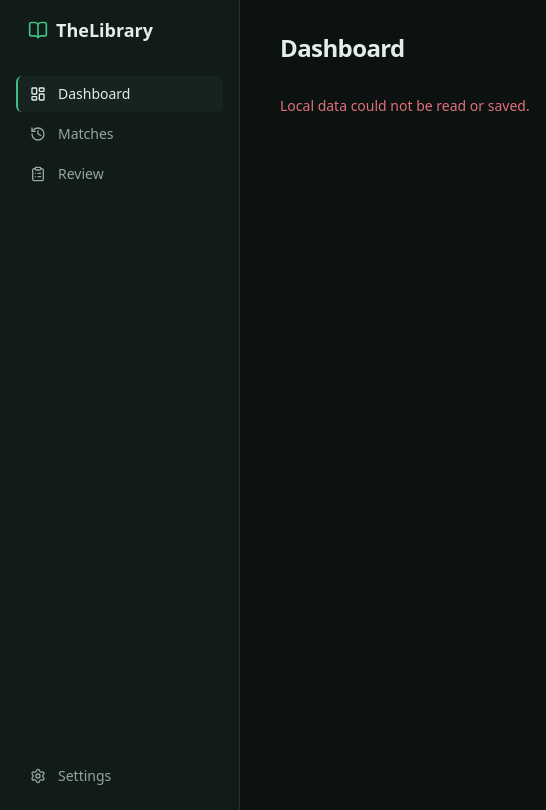
Test: ReviewPage › route and menu › shows the review in the menu, Settings last
Click the link "Review" at x=67, y=174, box [30, 164, 104, 183]
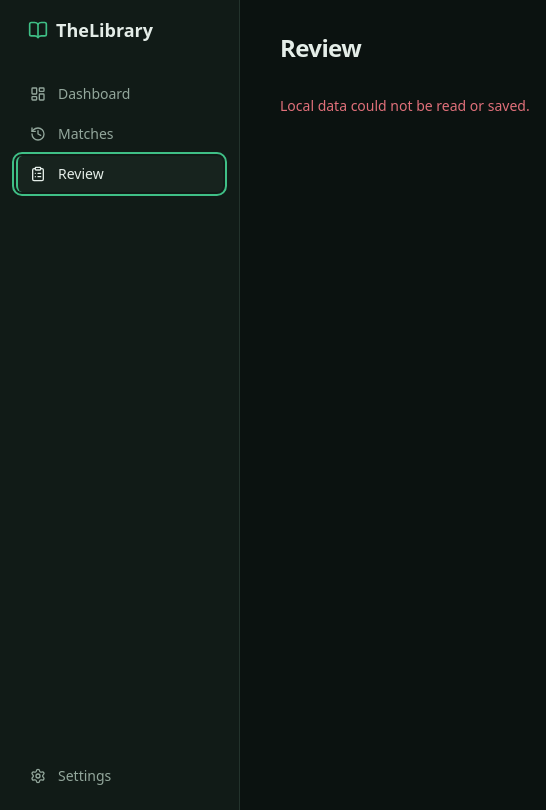
Now the heading "Review" is shown, box [280, 31, 361, 64]
